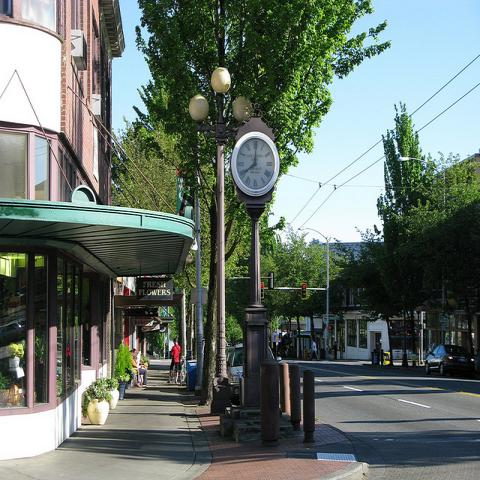car: (228, 342, 274, 404), (424, 344, 475, 375), (225, 347, 234, 366)
